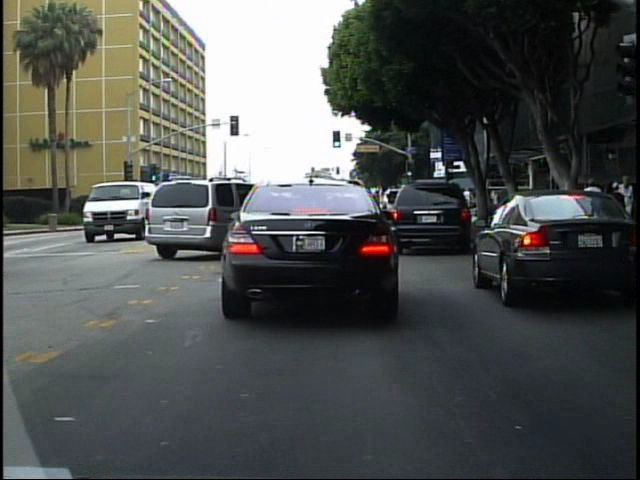person: (617, 171, 634, 243), (461, 184, 473, 220)
